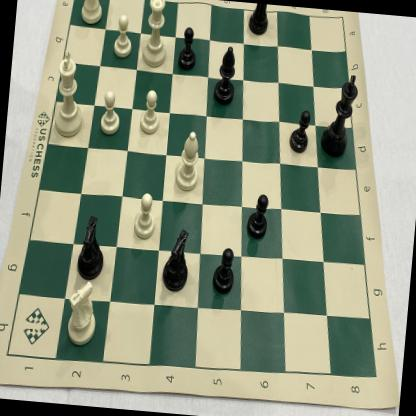bishop: (172, 128, 204, 196), (210, 40, 241, 109)
king: (318, 66, 362, 160), (51, 48, 92, 142)
knight: (62, 276, 102, 351), (70, 210, 109, 283), (158, 226, 194, 296)
pawn: (242, 190, 274, 245), (130, 188, 160, 245), (208, 242, 238, 298), (136, 84, 164, 140), (286, 104, 313, 157), (176, 20, 202, 74), (110, 11, 136, 64), (98, 86, 124, 139)
queen: (139, 0, 174, 73)
rook: (244, 3, 275, 41), (75, 0, 109, 32)
